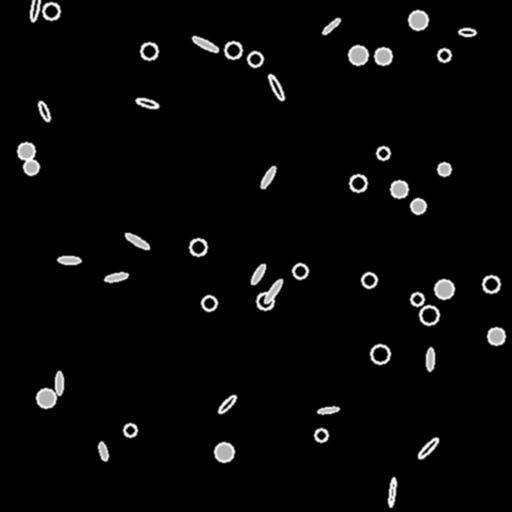pseudomonas: (262, 277, 284, 305), (266, 72, 286, 102), (124, 231, 150, 251), (191, 35, 219, 53), (417, 437, 439, 459), (259, 165, 277, 189), (321, 16, 341, 36), (217, 394, 237, 414), (250, 263, 266, 285), (37, 100, 51, 122), (136, 97, 158, 109), (105, 271, 127, 283), (388, 477, 396, 507), (30, 0, 40, 22), (98, 442, 108, 460), (58, 256, 80, 264), (426, 348, 434, 370), (318, 406, 338, 414), (458, 28, 476, 36), (56, 372, 62, 395)
synechocystis: (435, 280, 453, 298), (215, 443, 233, 461), (409, 11, 427, 29), (37, 389, 55, 407), (349, 46, 367, 64), (420, 306, 438, 324), (371, 345, 389, 363), (141, 43, 157, 59), (190, 239, 206, 255), (18, 143, 34, 159), (225, 42, 241, 58), (257, 293, 273, 309), (375, 48, 391, 64), (43, 3, 59, 19), (483, 276, 499, 292), (350, 175, 366, 191), (391, 181, 407, 197), (488, 328, 504, 344), (202, 296, 216, 310), (248, 52, 262, 66), (362, 273, 376, 287), (293, 264, 307, 278), (411, 199, 425, 213), (24, 160, 38, 174), (411, 293, 423, 305), (438, 49, 450, 61), (124, 424, 136, 436), (438, 163, 450, 175), (315, 429, 327, 441), (377, 147, 389, 159)
